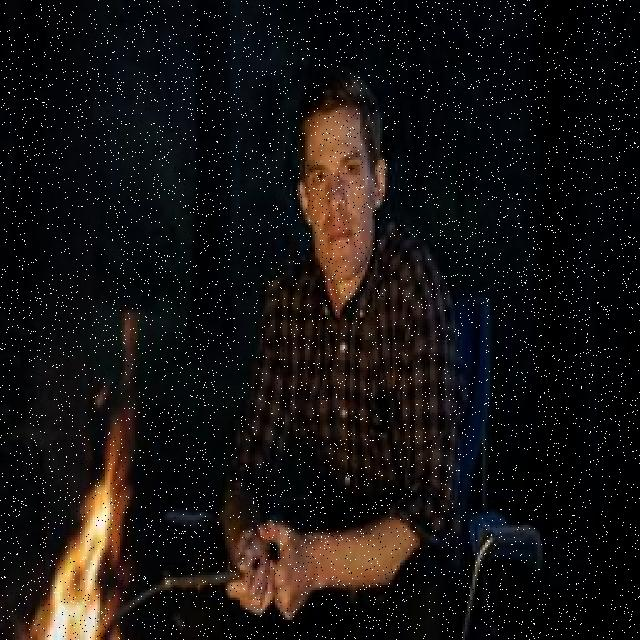fire: (29, 392, 122, 640)
